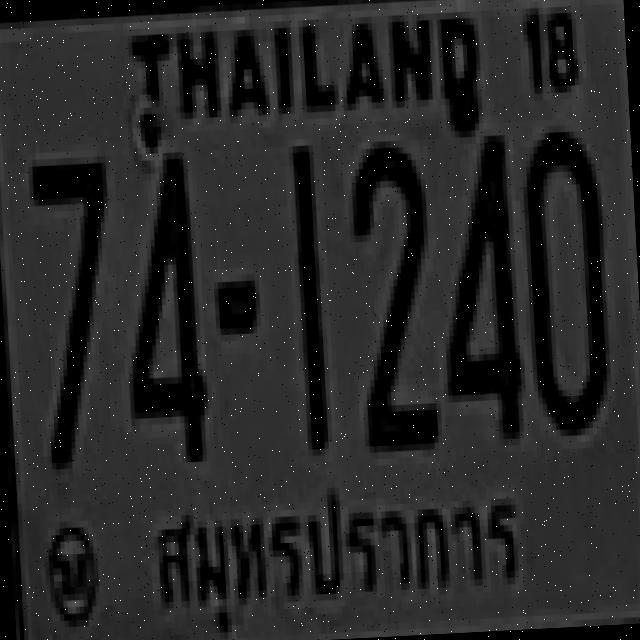0: (520, 124, 609, 431)
1: (287, 146, 327, 450)
2: (348, 140, 437, 446)
4: (113, 145, 207, 459), (431, 132, 524, 438)
7: (28, 156, 117, 464), (28, 153, 112, 374)
SamutPrakan: (136, 466, 535, 640)
